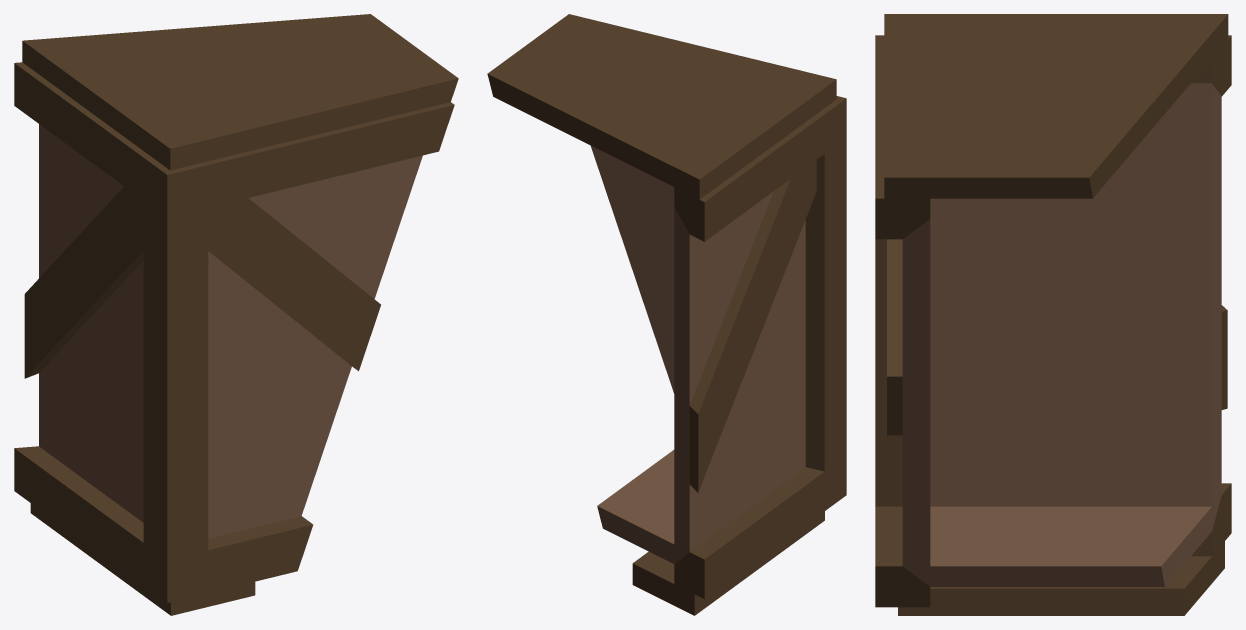
File: crate_chunk3.fbx
3 renders of one model, left to right at view 1: azimuth 30°, elevation 25°; view 2: azimuth 150°, elevation 25°; view 3: azimuth 270°, elevation 25°, orthographic. The views are drawn at different scales.
Visible parts, largest first — view 1: crate_chunk3; view 2: crate_chunk3; view 3: crate_chunk3.
Part boxes in pixels (x1,y1,x2,y2): crate_chunk3: (14,14,458,615); crate_chunk3: (487,14,846,615); crate_chunk3: (875,14,1231,615).
Bounding box in the file's own units: 144 × 221 × 130.
